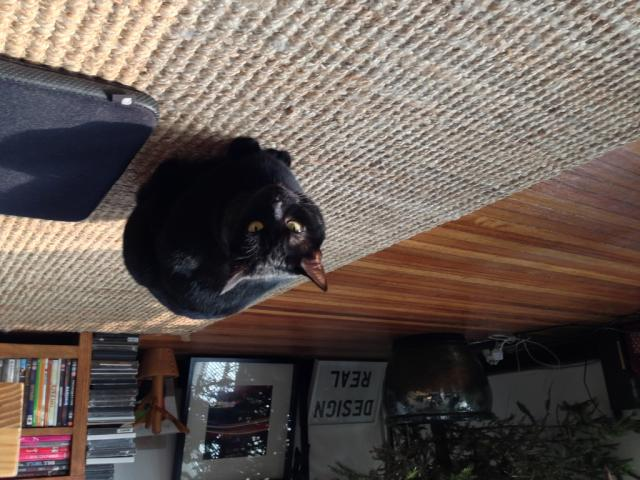Cat: (118, 138, 324, 325)
